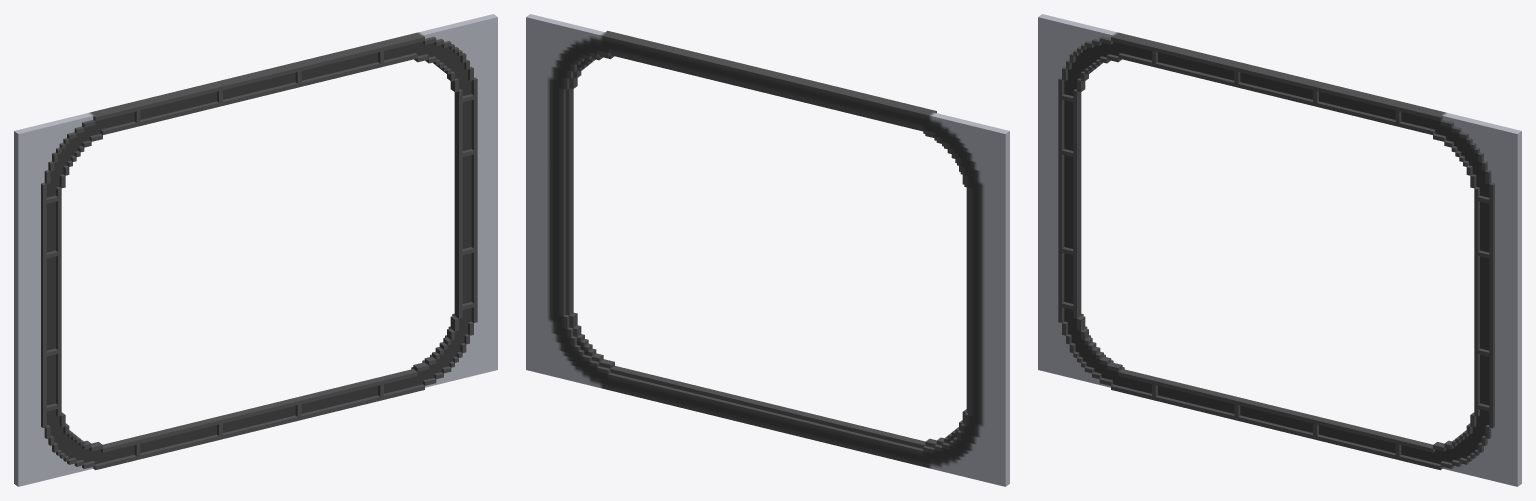
Rendered from DoorFrame_Round.obj.
The picture shows the model from 3 angles, left to right: view 1: azimuth 30°, elevation 25°; view 2: azimuth 150°, elevation 25°; view 3: azimuth 330°, elevation 25°; orthographic projection.
Visible parts, largest first — view 1: DoorFrame_Round; view 2: DoorFrame_Round; view 3: DoorFrame_Round.
Boxes of the visible parts, box(x1,y1,x2,y2) form: DoorFrame_Round: box(14, 14, 497, 486); DoorFrame_Round: box(526, 14, 1009, 486); DoorFrame_Round: box(1038, 14, 1521, 486).
Size of the model in its own units: 128 by 90 by 3.
1 material, 1 textured.
